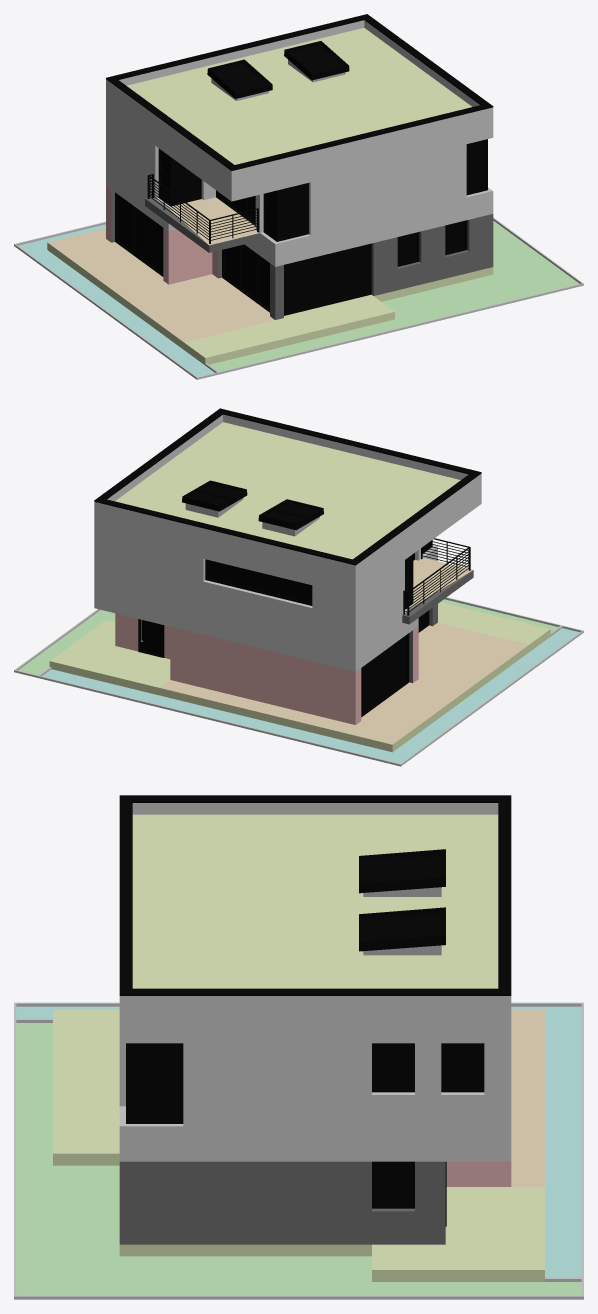
File: Rumah_2.fbx
The picture shows the model from 3 angles, top to bottom: view 1: azimuth 30°, elevation 25°; view 2: azimuth 150°, elevation 25°; view 3: azimuth 270°, elevation 25°; orthographic projection. The views are drawn at different scales.
Parts seen in each view (by area): view 1: MH01_OBJ01, MH01_OBJ03, MH01_OBJ04, MH01_OBJ02; view 2: MH01_OBJ01, MH01_OBJ03, MH01_OBJ04, MH01_OBJ02; view 3: MH01_OBJ01, MH01_OBJ03, MH01_OBJ04.
Part boxes in pixels (left/top/right/bottom): MH01_OBJ01: left=106, top=14, right=493, bottom=319; MH01_OBJ03: left=14, top=217, right=583, bottom=379; MH01_OBJ04: left=115, top=41, right=487, bottom=315; MH01_OBJ02: left=145, top=174, right=259, bottom=252; MH01_OBJ01: left=94, top=408, right=481, bottom=724; MH01_OBJ03: left=14, top=597, right=583, bottom=766; MH01_OBJ04: left=138, top=480, right=432, bottom=717; MH01_OBJ02: left=402, top=538, right=473, bottom=624; MH01_OBJ01: left=119, top=795, right=511, bottom=1256; MH01_OBJ03: left=14, top=1002, right=583, bottom=1299; MH01_OBJ04: left=126, top=849, right=484, bottom=1226.
Bounding box in the file's own units: 1331 × 696 × 1624.
